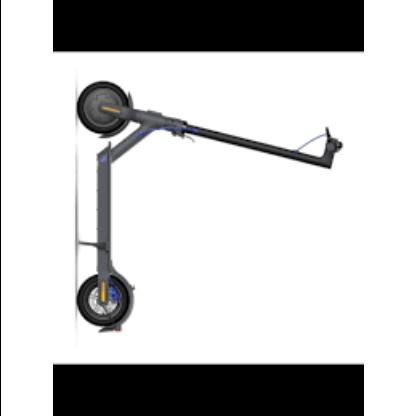bike: (75, 80, 344, 332)
